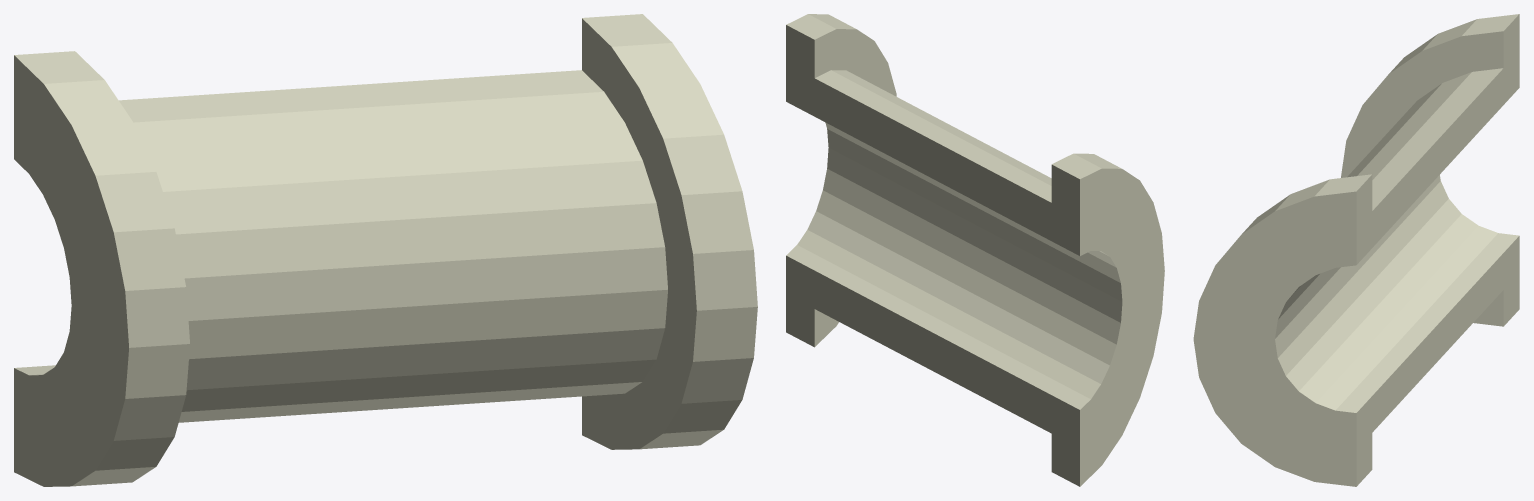
File: section_146.obj
3 views of the same model, side by side, from view 1: azimuth 30°, elevation 25°; view 2: azimuth 150°, elevation 25°; view 3: azimuth 270°, elevation 25° (orthographic). The views are drawn at different scales.
Bounding box in the file's own units: 10.31 × 8 × 8.
